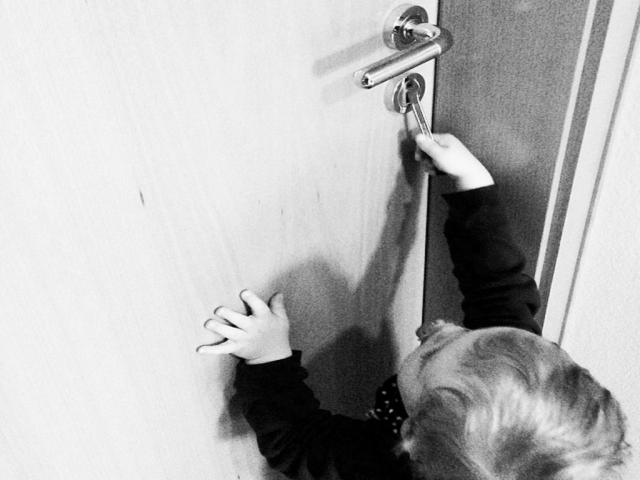Door-handle: (343, 4, 460, 91)
